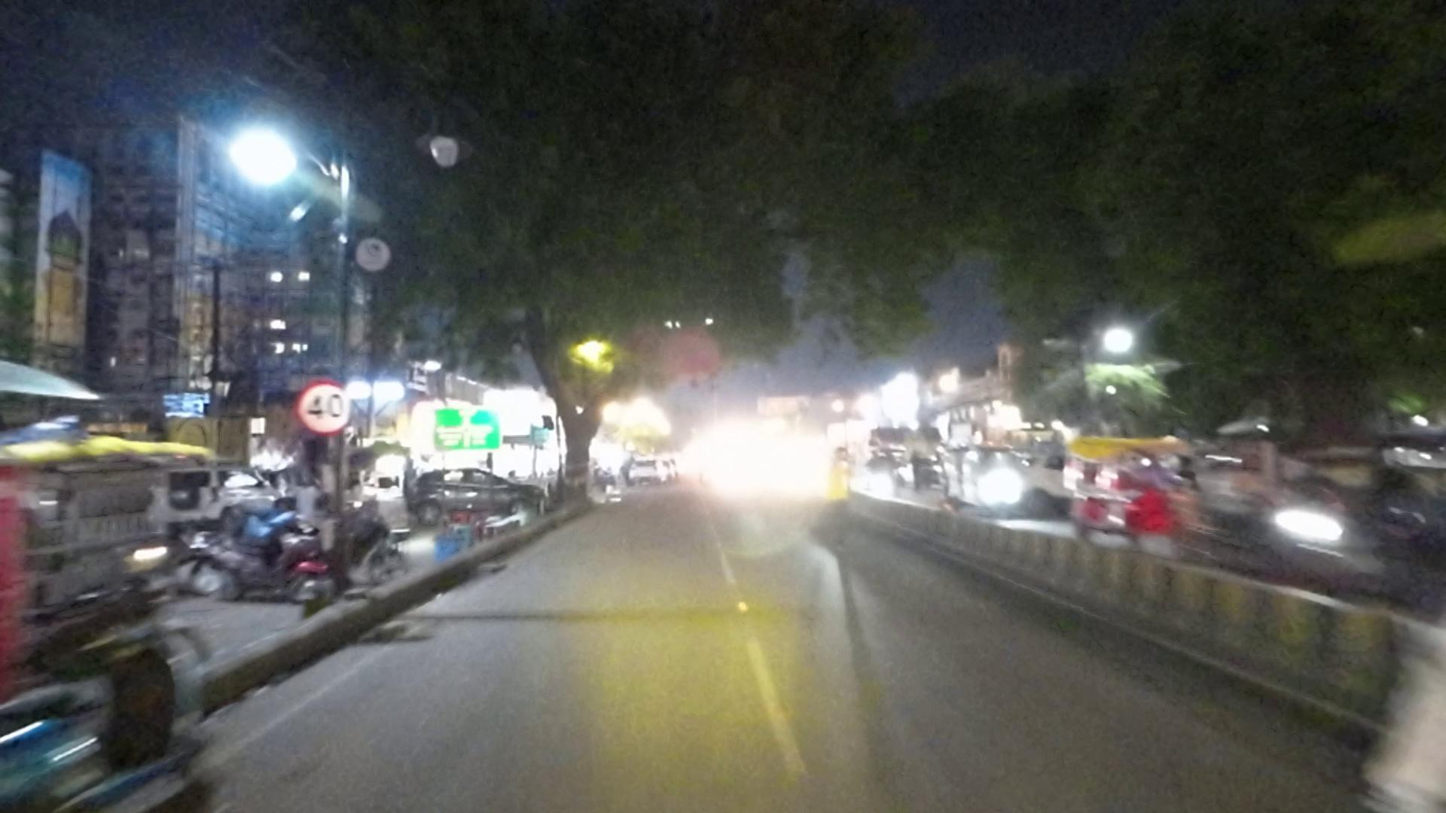streetlight: (384, 102, 491, 181)
